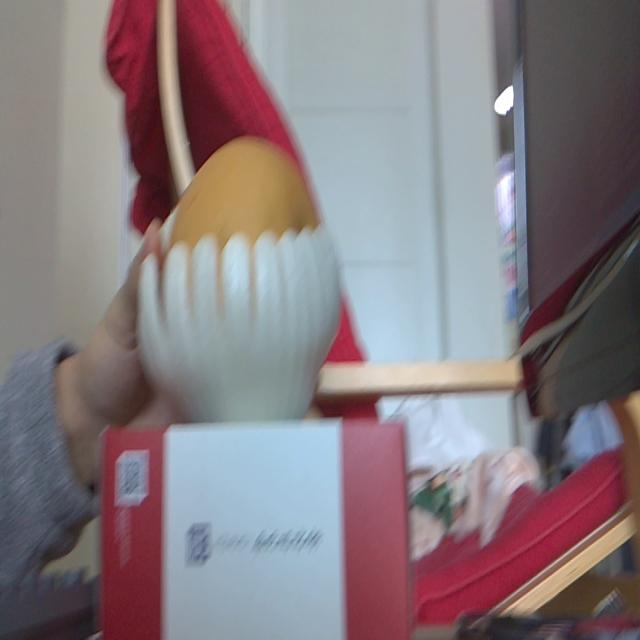pear: (137, 136, 340, 418)
